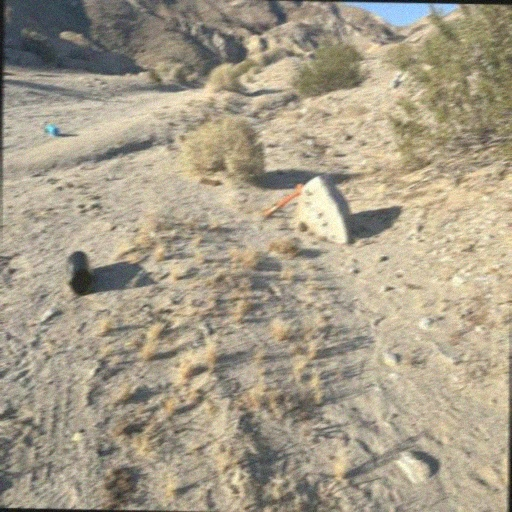bottle: (64, 249, 94, 296), (44, 120, 61, 138)
mallet: (261, 178, 305, 220)
